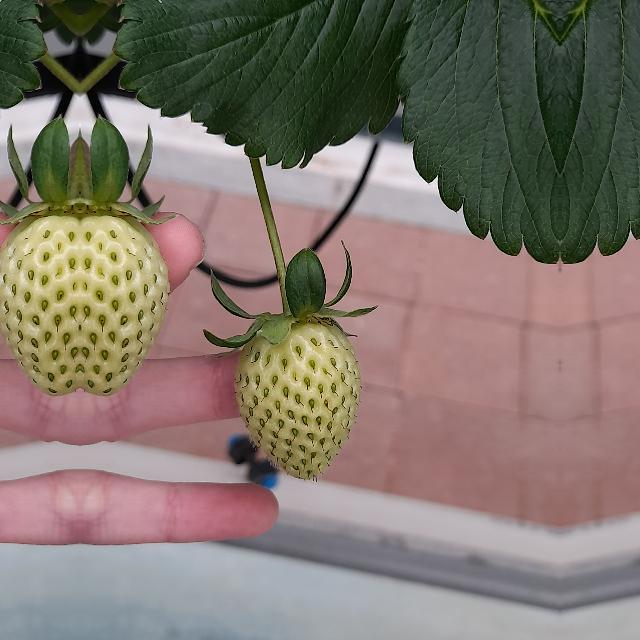Health_25: (234, 322, 362, 478), (80, 202, 164, 392), (0, 202, 80, 392)
